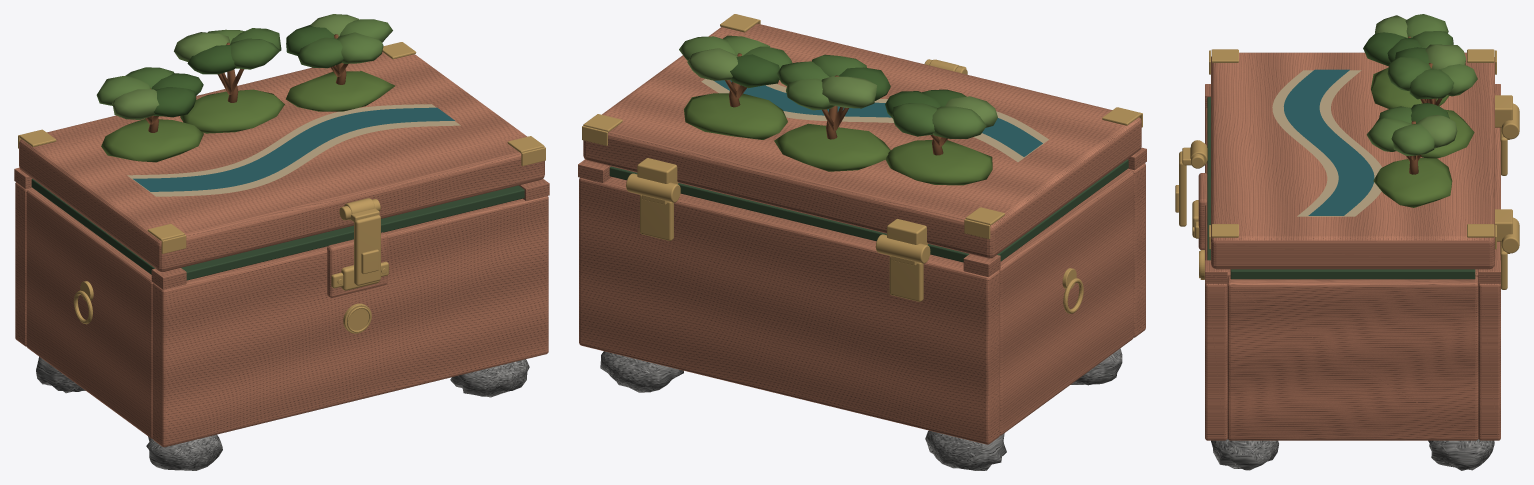
Rendered from gabon.glb.
3 views of the same model, side by side, from view 1: azimuth 30°, elevation 25°; view 2: azimuth 150°, elevation 25°; view 3: azimuth 270°, elevation 25° (orthographic). The views are drawn at different scales.
Visible parts, largest first — view 1: Okoume / front, Lid / polished slab, Okoume / side, Lagoon / continuous winding water, Mineral seam / long, Coast / sand bank, Coast / forest bank 0, Coast / forest bank 1, Coast / forest bank 2, Granite foot, Okoume / rear, Granite foot.002 (+18 smaller); view 2: Okoume / rear, Lid / polished slab, Okoume / side, Coast / forest bank 1, Coast / forest bank 2, Coast / forest bank 0, Mineral seam / long.001, Lagoon / continuous winding water, Granite foot.001, Okoume / front, Granite foot.003, Coast / sand bank (+22 smaller); view 3: Okoume / side.001, Lid / polished slab, Lagoon / continuous winding water, Okoume / rear, Okoume / front, Coast / sand bank, Coast / forest bank 2, Mineral seam / side.001, Granite foot.002, Granite foot.003, Coast / forest bank 0, Forest / canopy 2 (+26 smaller).
Boxes of the visible parts, x1,y1,x2,y2 form: Okoume / front: (152, 196, 548, 447); Lid / polished slab: (19, 52, 544, 271); Okoume / side: (26, 188, 153, 438); Lagoon / continuous winding water: (133, 107, 454, 191); Mineral seam / long: (181, 185, 524, 280); Coast / sand bank: (127, 104, 460, 196); Coast / forest bank 0: (101, 119, 203, 162); Coast / forest bank 1: (180, 89, 284, 133); Coast / forest bank 2: (286, 71, 395, 111); Granite foot: (146, 434, 222, 470); Okoume / rear: (15, 182, 32, 346); Granite foot.002: (450, 359, 529, 397); Okoume / rear: (579, 177, 999, 444); Lid / polished slab: (583, 23, 1141, 258); Okoume / side: (999, 169, 1133, 435); Coast / forest bank 1: (774, 123, 890, 171); Coast / forest bank 2: (684, 93, 787, 139); Coast / forest bank 0: (886, 140, 992, 185); Mineral seam / long.001: (609, 166, 969, 262); Lagoon / continuous winding water: (714, 80, 1042, 156); Granite foot.001: (925, 430, 1006, 470); Okoume / front: (1127, 163, 1145, 337); Granite foot.003: (600, 351, 683, 392); Coast / sand bank: (701, 78, 1048, 161); Okoume / side.001: (1227, 276, 1478, 440); Lid / polished slab: (1211, 52, 1494, 269); Lagoon / continuous winding water: (1283, 69, 1374, 215); Okoume / rear: (1478, 127, 1500, 440); Okoume / front: (1205, 107, 1227, 440); Coast / sand bank: (1272, 70, 1381, 216); Coast / forest bank 2: (1373, 158, 1452, 207); Mineral seam / side.001: (1230, 269, 1475, 279); Granite foot.002: (1211, 439, 1278, 470); Granite foot.003: (1428, 439, 1494, 470); Coast / forest bank 0: (1371, 67, 1449, 108); Forest / canopy 2: (1391, 124, 1434, 155).
Bounding box in the file's own units: 3.79 × 3.04 × 2.88.
12 materials, 2 textured.
